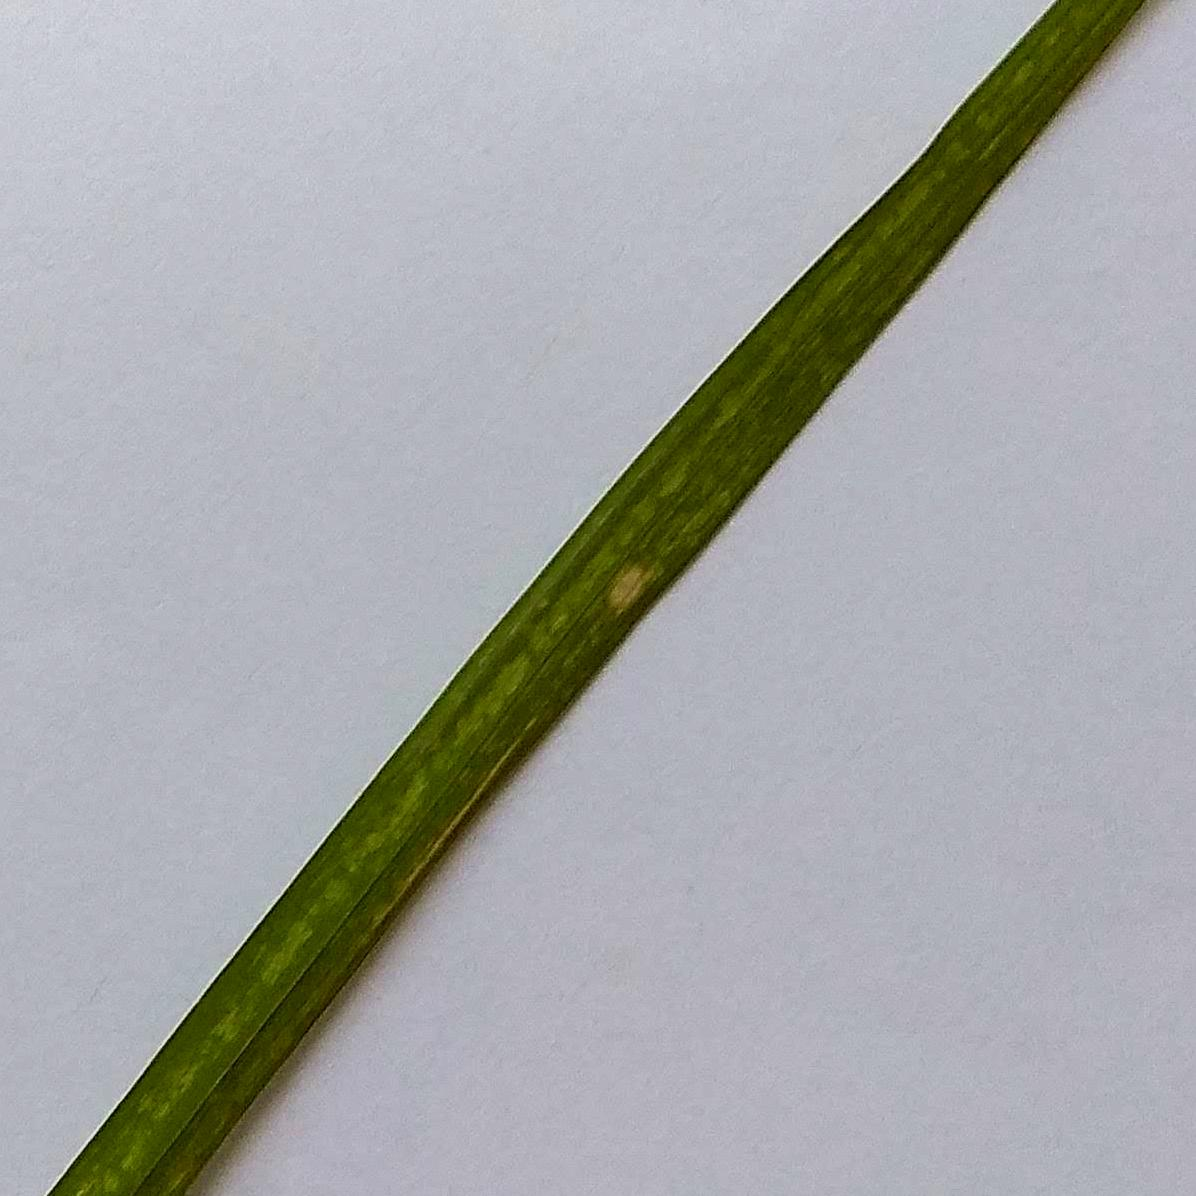1 RiceBlast: (593, 545, 670, 629)
